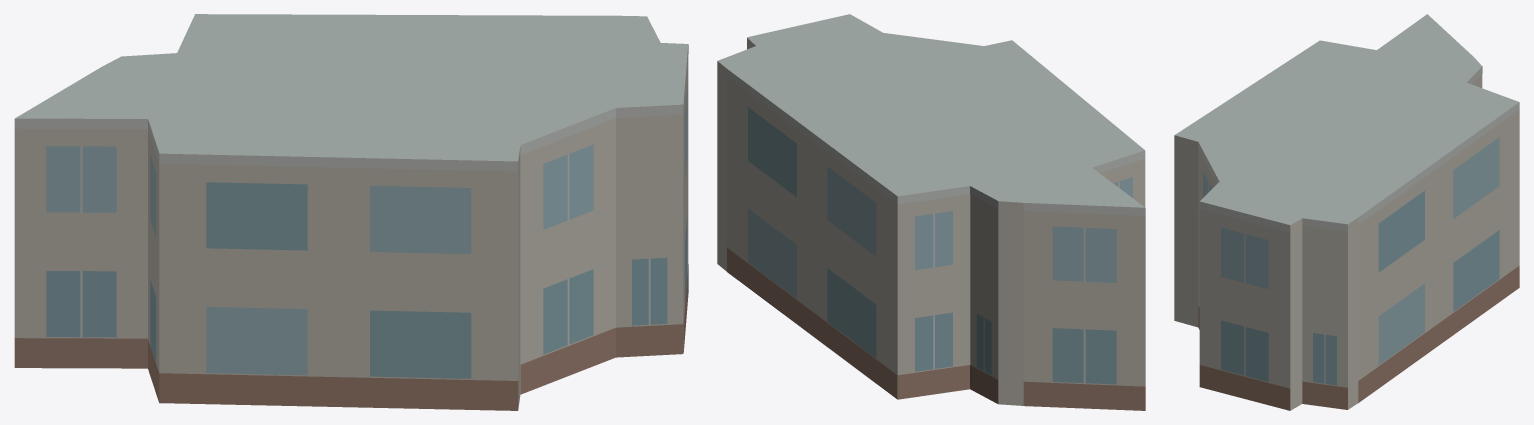
The model's file is survey-upis-32460061.glb.
3 renders of one model, left to right at view 1: azimuth 30°, elevation 25°; view 2: azimuth 150°, elevation 25°; view 3: azimuth 270°, elevation 25°, orthographic. The views are drawn at different scales.
Visible parts, largest first — view 1: survey-upis-32460061.tmp; view 2: survey-upis-32460061.tmp; view 3: survey-upis-32460061.tmp.
Boxes of the visible parts, left/top/right/bottom form: survey-upis-32460061.tmp: left=14, top=14, right=688, bottom=410; survey-upis-32460061.tmp: left=717, top=14, right=1145, bottom=410; survey-upis-32460061.tmp: left=1174, top=14, right=1519, bottom=410.
Size of the model in its own units: 14.89 by 6.1 by 10.29.
